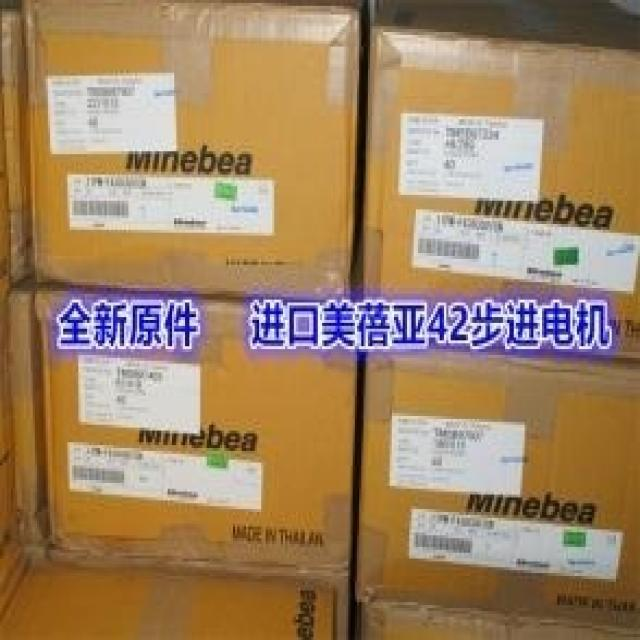box: (21, 0, 359, 305), (35, 283, 357, 566), (365, 27, 638, 359), (350, 329, 638, 634), (50, 549, 349, 639), (1, 558, 333, 636), (348, 578, 638, 637), (6, 270, 51, 540), (0, 301, 31, 621), (1, 15, 34, 281), (1, 15, 10, 306), (18, 532, 51, 564)
